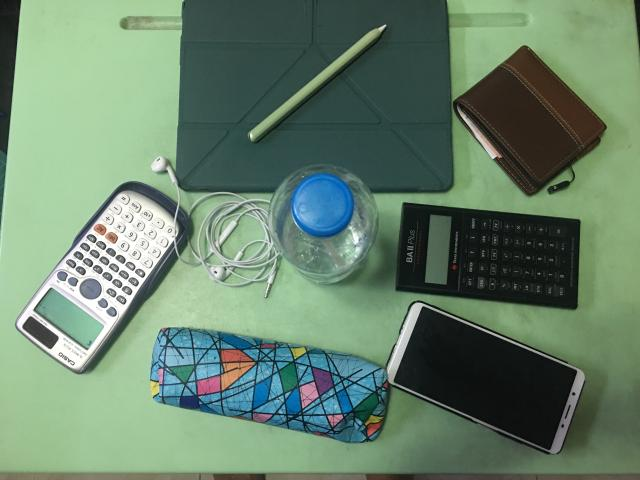Mobile phone: (386, 301, 585, 454)
Wallet: (454, 46, 606, 195)
bottle: (269, 165, 379, 284)
wire: (149, 156, 281, 299)
